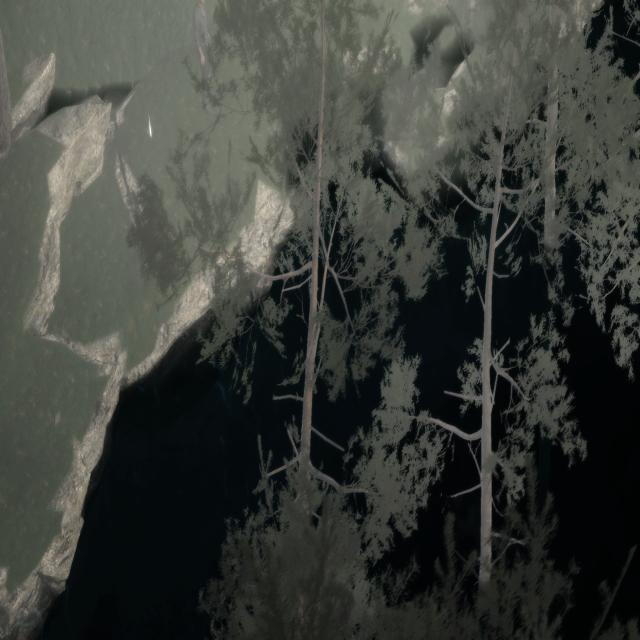Human: (191, 0, 223, 121)
